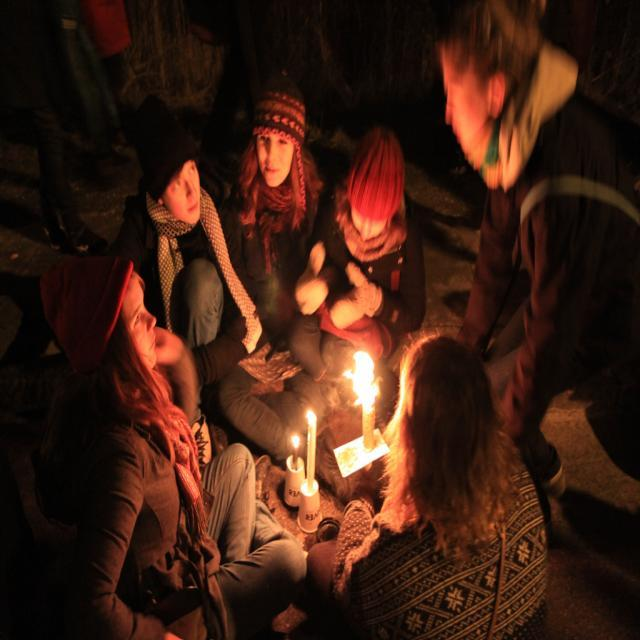Fire: (347, 346, 385, 418), (284, 432, 308, 447), (301, 409, 322, 426)
